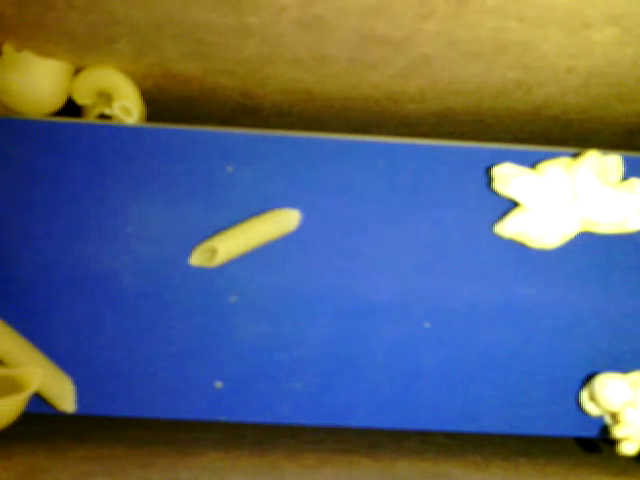elbow: (69, 63, 141, 122)
penne: (1, 319, 77, 413), (188, 208, 302, 267)
shell: (1, 43, 74, 119), (1, 367, 43, 427), (85, 92, 147, 124)
